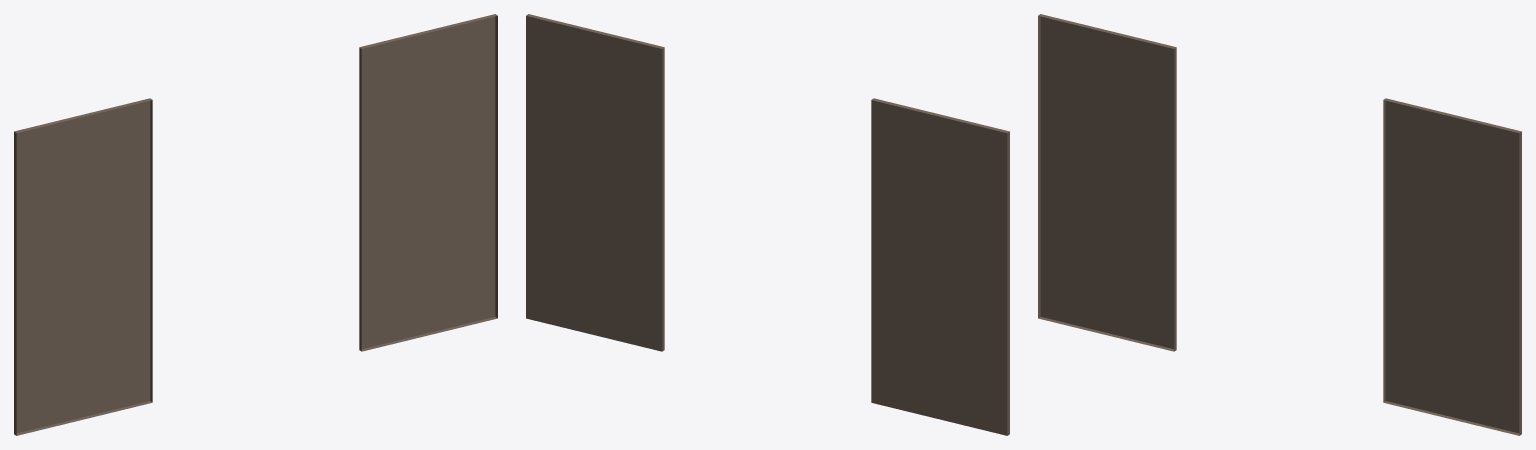
The model's file is EntranceWindow.fbx.
3 renders of one model, left to right at view 1: azimuth 30°, elevation 25°; view 2: azimuth 150°, elevation 25°; view 3: azimuth 330°, elevation 25°, orthographic.
Visible parts, largest first — view 1: MainDoor.001; view 2: MainDoor.001; view 3: MainDoor.001.
Part boxes in pixels (<box>): MainDoor.001: <box>14,14,497,435</box>; MainDoor.001: <box>526,14,1009,435</box>; MainDoor.001: <box>1038,14,1521,435</box>.
Bounding box in the file's own units: 1.33 × 0.7984 × 0.0119.
